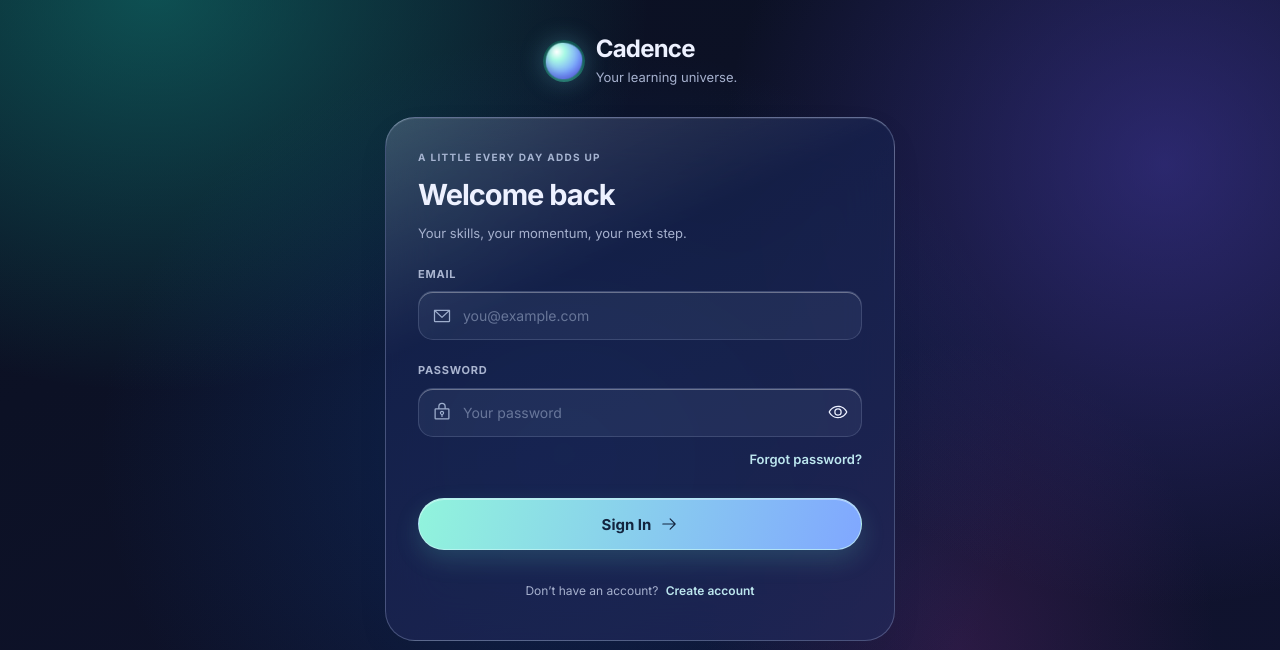
Test: Supabase authentication flows › handles duplicate-email errors from Supabase
Check: the button "Sign In" is shown, box [418,498,862,550]
Step 1. Click the button "Create account" → coordinates (710, 591), box [666,574,755,608]
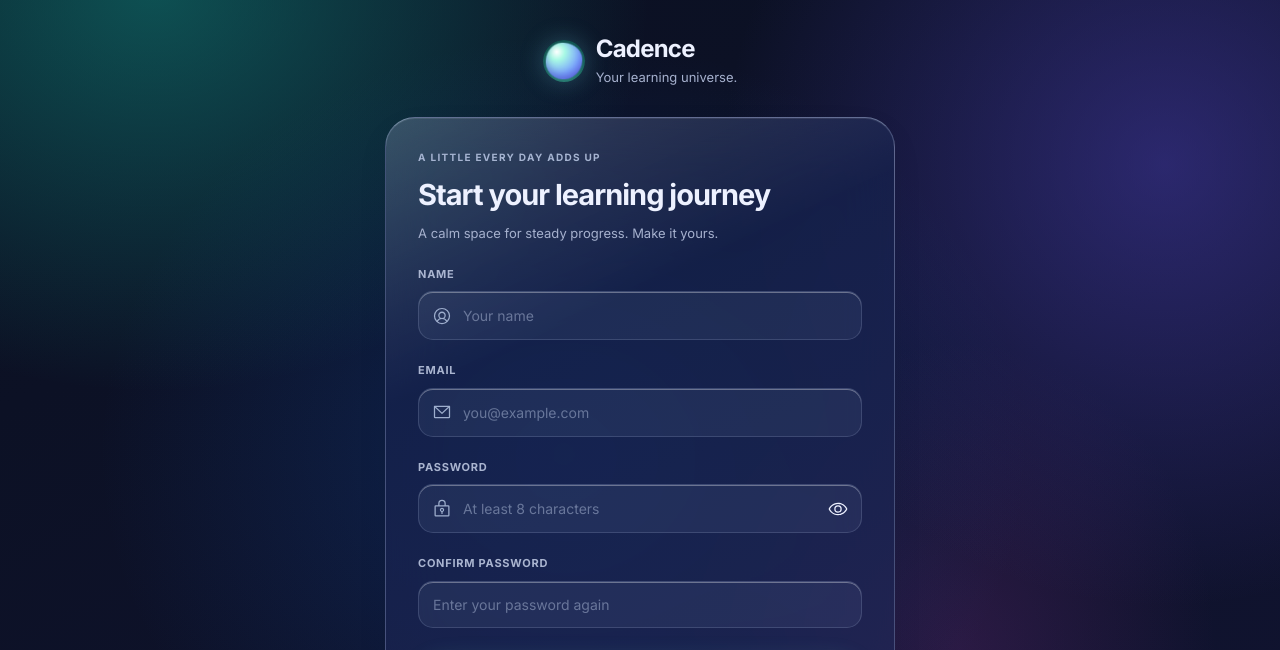
Step 2. Type "User" into the field labelled "NAME" → coordinates (640, 316), box [418,291,862,340]
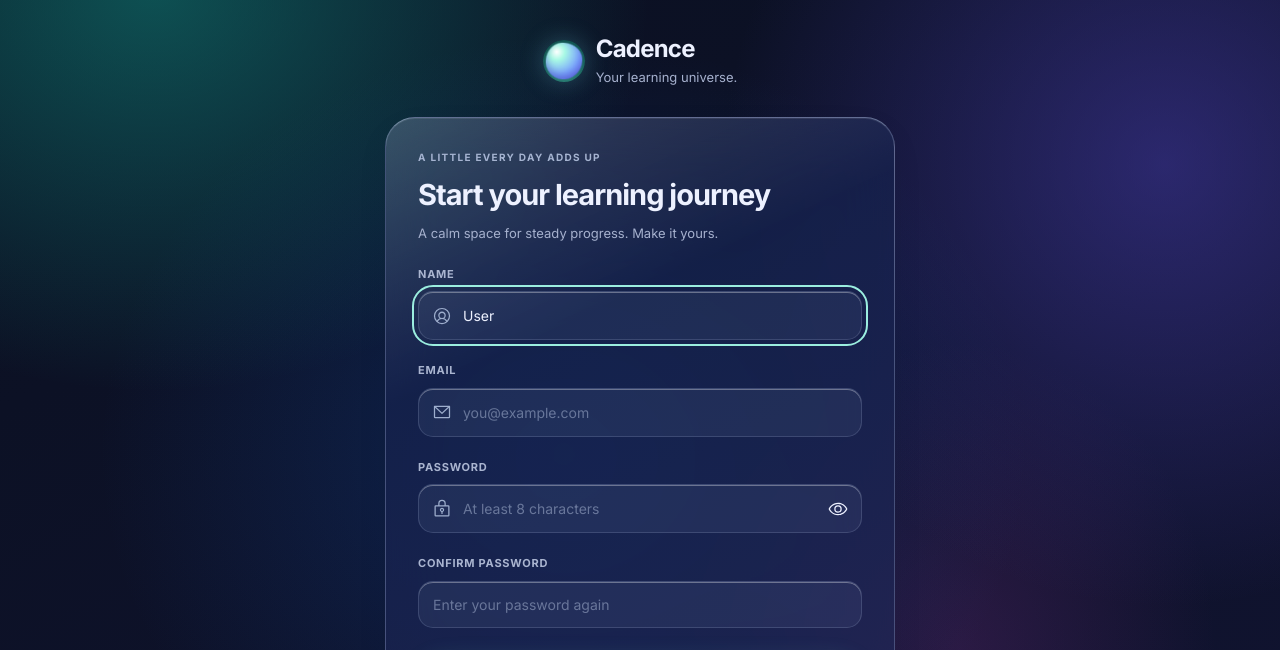
Step 3. Type "user@example.test" into the field labelled "EMAIL" → coordinates (640, 412), box [418,388,862,437]
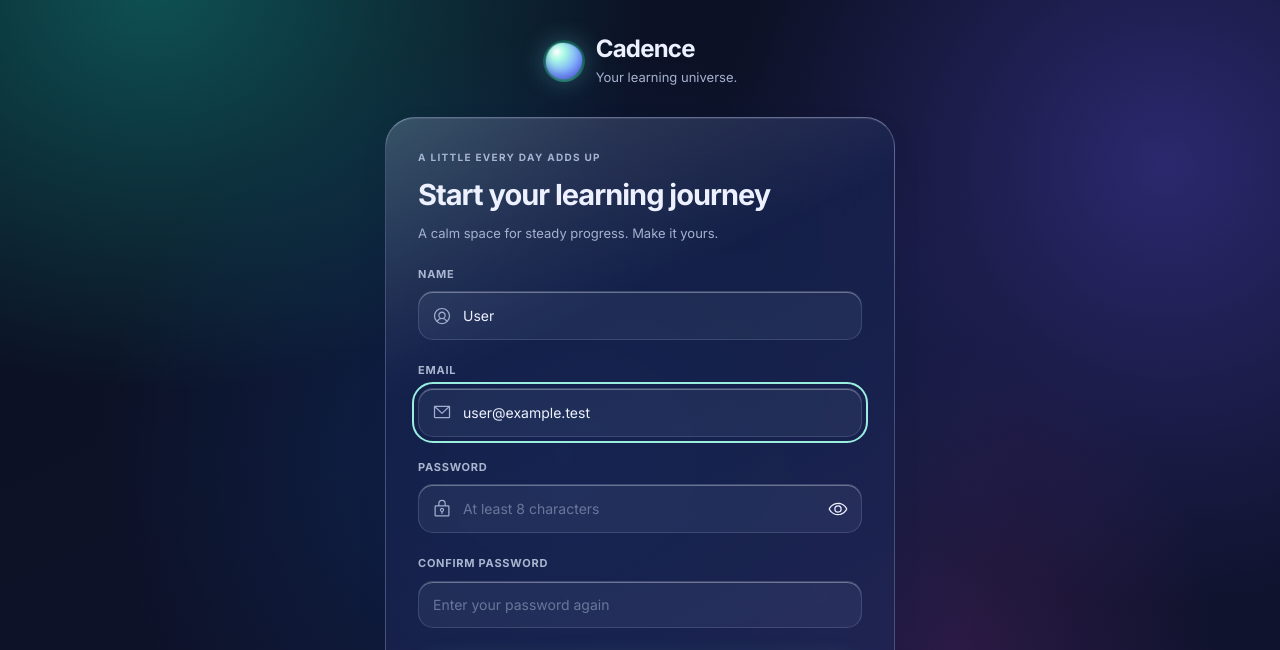
Step 4. Type "secure-password" into the password field labelled "PASSWORD" → coordinates (640, 509), box [418,484,862,533]
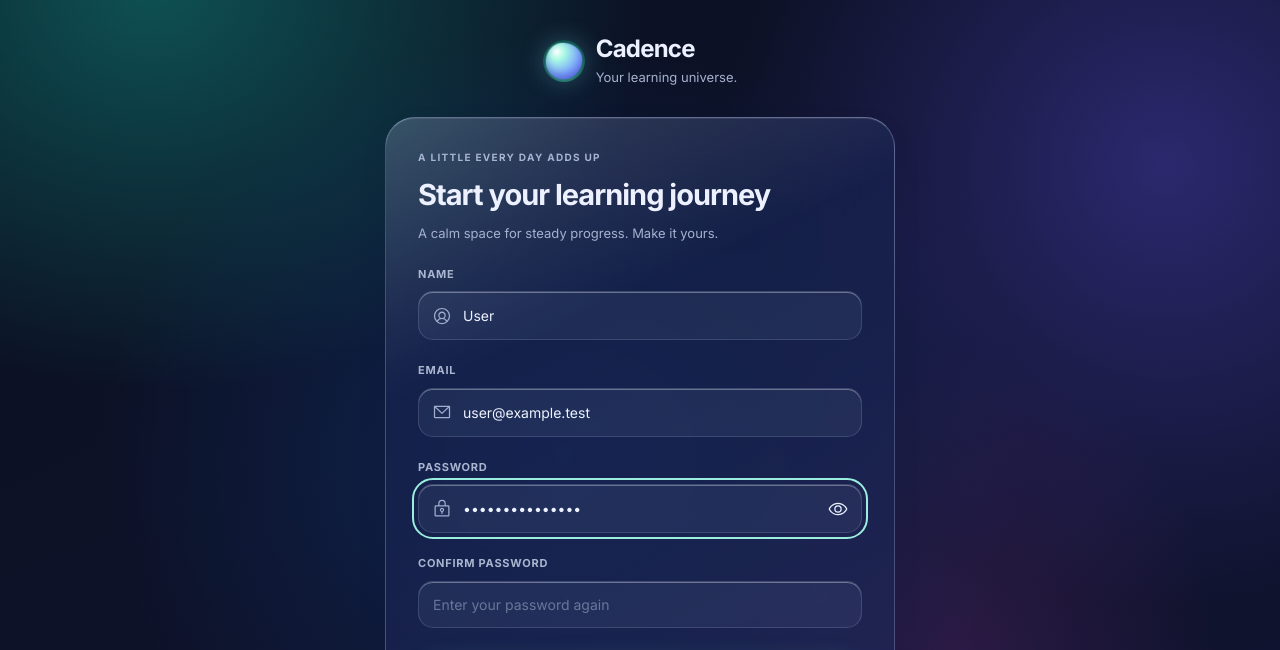
Step 5. Type "secure-password" into the password field labelled "CONFIRM PASSWORD" → coordinates (640, 604), box [418,581,862,628]
(page scrolled)
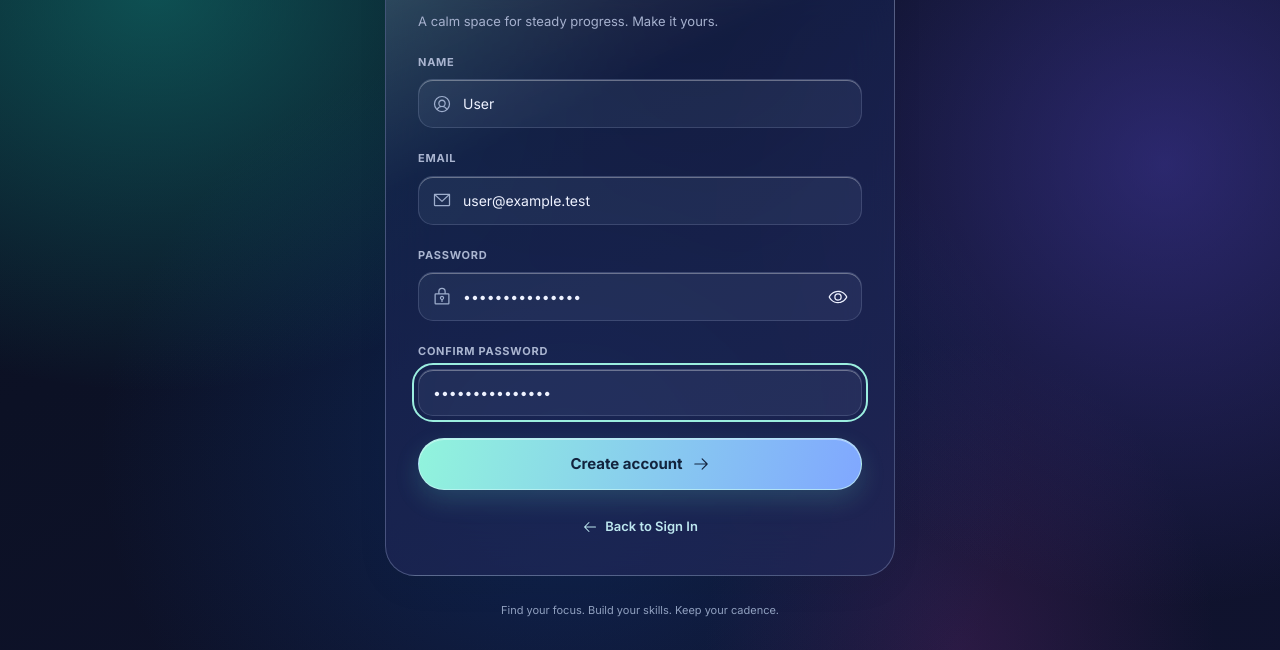
Step 6. Click the button "Create account" → coordinates (640, 464), box [418,438,862,490]
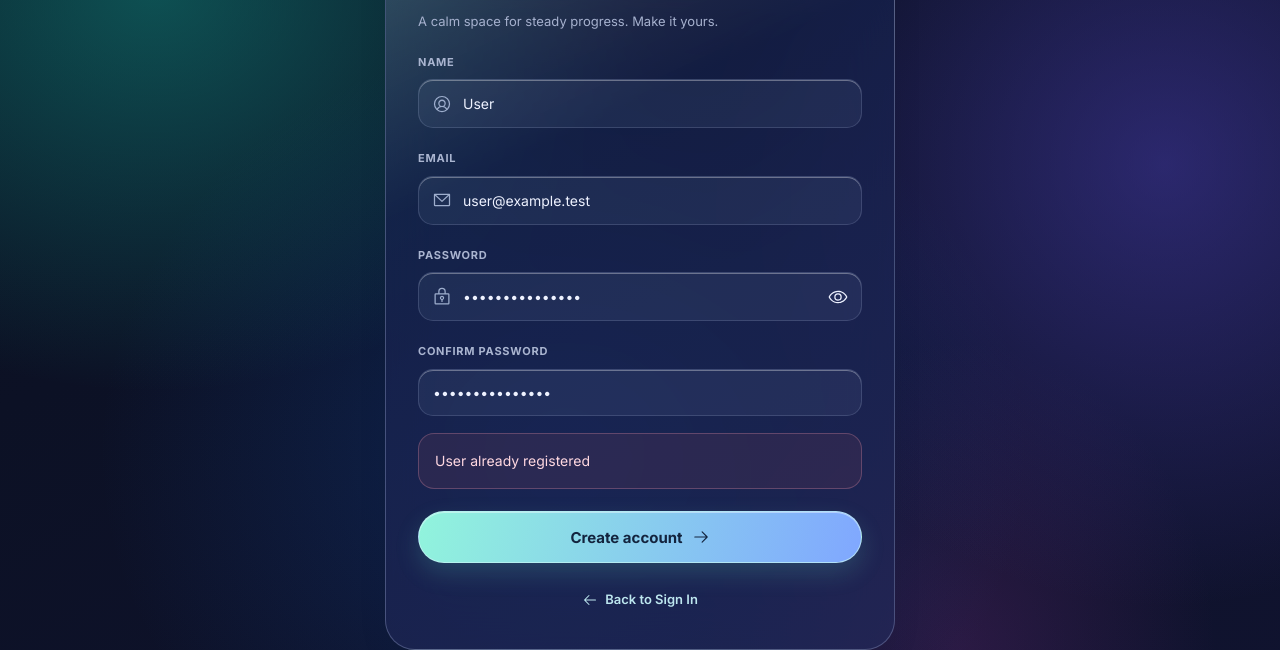
Check: the message shows "already registered", box [435,452,590,469]
